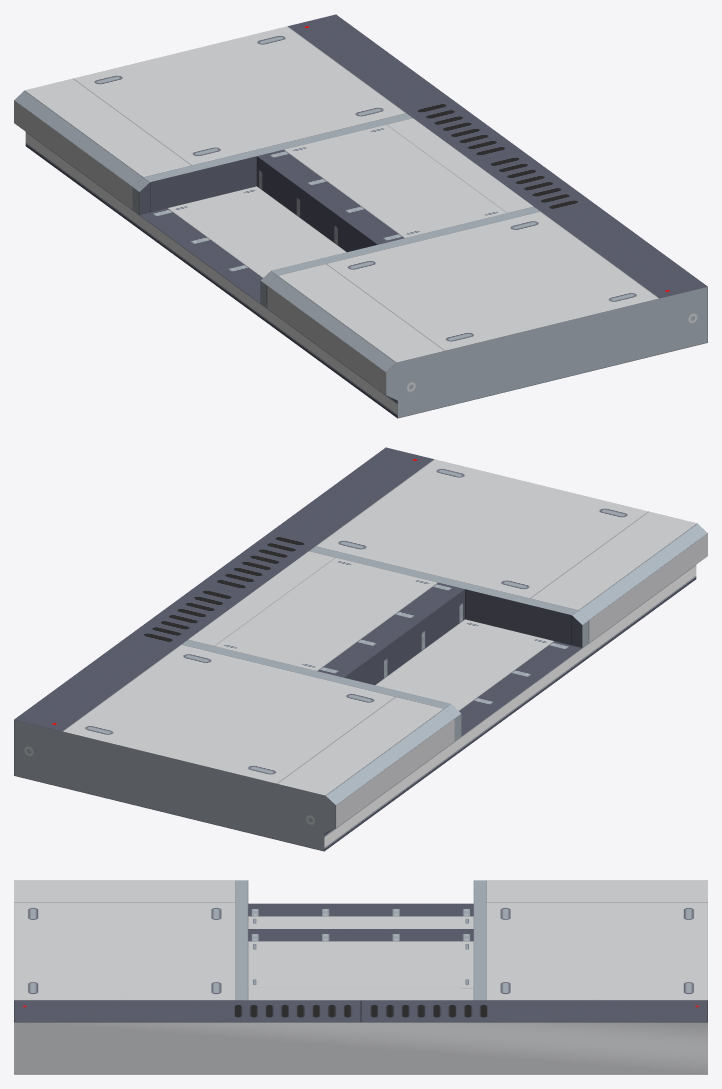
The model's file is Interior_Plateform_01.FBX.
3 views of the same model, one above another, from view 1: azimuth 30°, elevation 25°; view 2: azimuth 150°, elevation 25°; view 3: azimuth 270°, elevation 25° (orthographic). The views are drawn at different scales.
Parts seen in each view (by area): view 1: Interior_Plateform_01; view 2: Interior_Plateform_01; view 3: Interior_Plateform_01.
Part boxes in pixels (box(x1,y1,x2,y2)): Interior_Plateform_01: box(14, 14, 707, 418); Interior_Plateform_01: box(14, 447, 707, 851); Interior_Plateform_01: box(14, 880, 707, 1074).
Size of the model in its own units: 3 by 0.5 by 6.
Materials: 3 (3 with a texture image).
